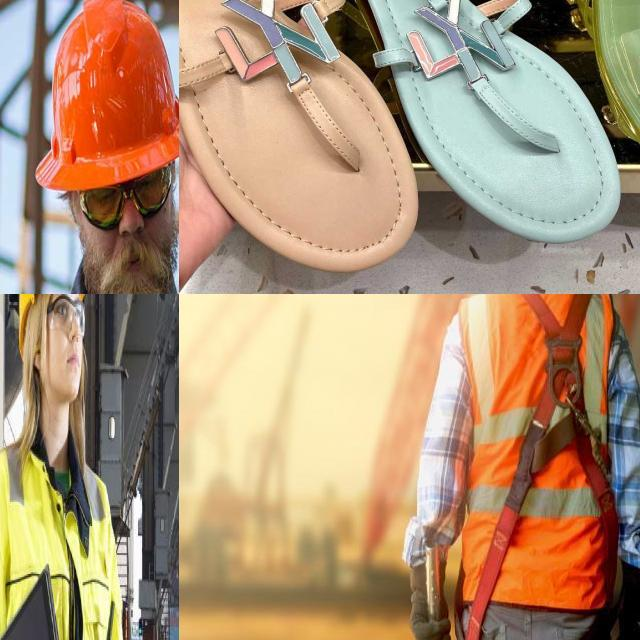Harness: (465, 294, 620, 640)
Sandals: (288, 0, 640, 259), (179, 0, 443, 278)
face_nomask: (74, 178, 179, 294), (36, 294, 91, 409)
glasses: (79, 159, 178, 233), (47, 294, 85, 337)
head_helmet: (33, 0, 179, 191)
person: (0, 0, 179, 294), (0, 294, 152, 640)
vest: (0, 431, 143, 640)
